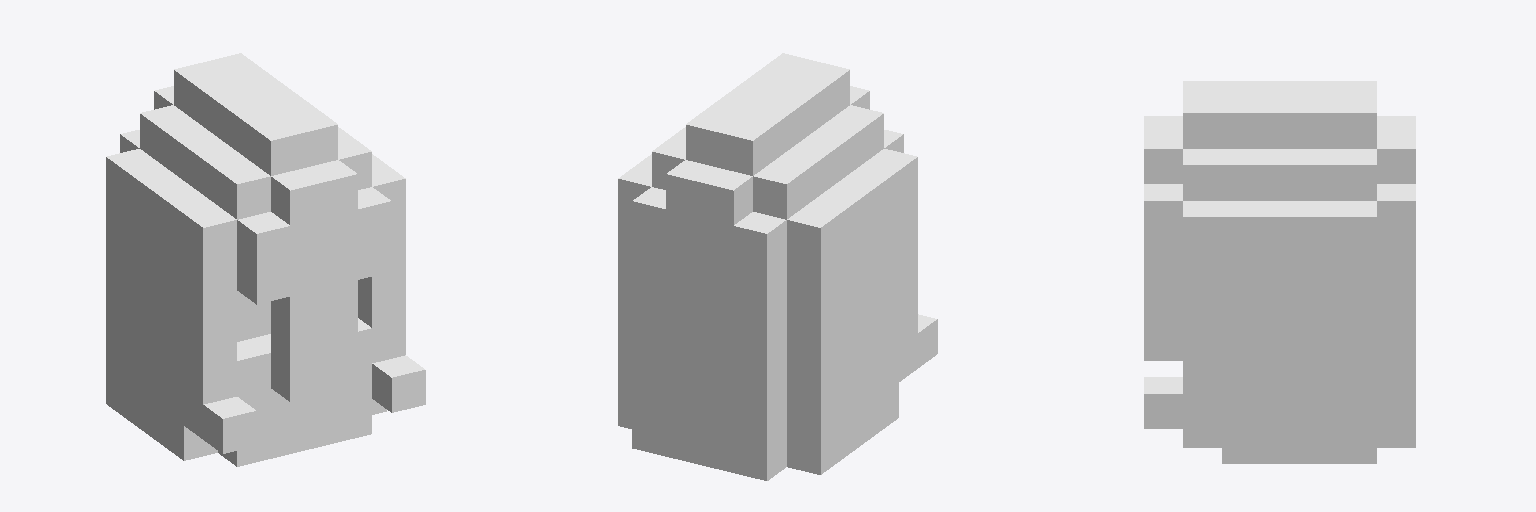
File: char-228-helm_hvy_3e_du.obj
The picture shows the model from 3 angles: view 1: azimuth 30°, elevation 25°; view 2: azimuth 150°, elevation 25°; view 3: azimuth 270°, elevation 25°; orthographic projection.
Parts seen in each view (by area): view 1: helm_hvy_3e_du; view 2: helm_hvy_3e_du; view 3: helm_hvy_3e_du.
Part boxes in pixels (bbox=[...]): helm_hvy_3e_du: bbox=[106, 53, 425, 466]; helm_hvy_3e_du: bbox=[618, 53, 937, 480]; helm_hvy_3e_du: bbox=[1144, 81, 1415, 463].
Bounding box in the file's own units: 0.6 × 0.9 × 0.7.